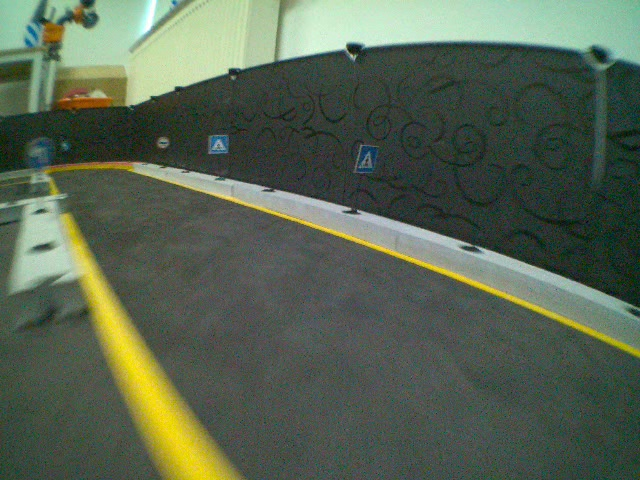crossing: (353, 144, 379, 174), (208, 132, 230, 156)
